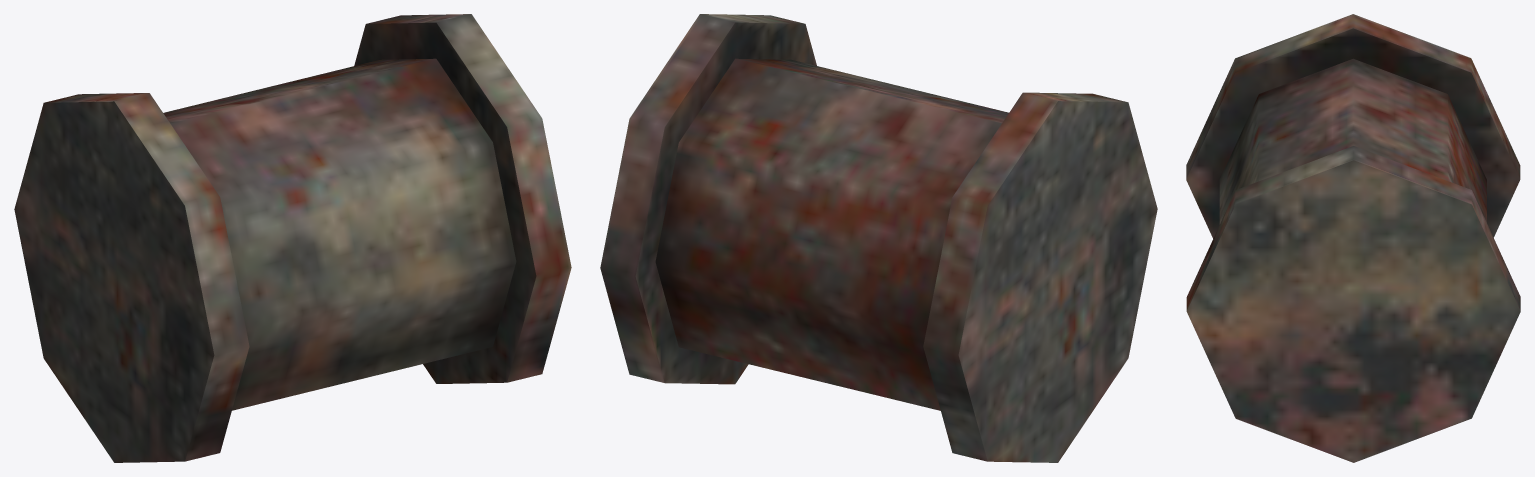
The model's file is Pipe_Short.FBX.
3 renders of one model, left to right at view 1: azimuth 30°, elevation 25°; view 2: azimuth 150°, elevation 25°; view 3: azimuth 270°, elevation 25°, orthographic. The views are drawn at different scales.
Visible parts, largest first — view 1: Pipe_Short; view 2: Pipe_Short; view 3: Pipe_Short.
Part boxes in pixels (left/top/right/bottom): Pipe_Short: left=14, top=14, right=571, bottom=462; Pipe_Short: left=600, top=14, right=1157, bottom=462; Pipe_Short: left=1186, top=14, right=1520, bottom=462.
Bounding box in the file's own units: 104 × 100 × 100.
